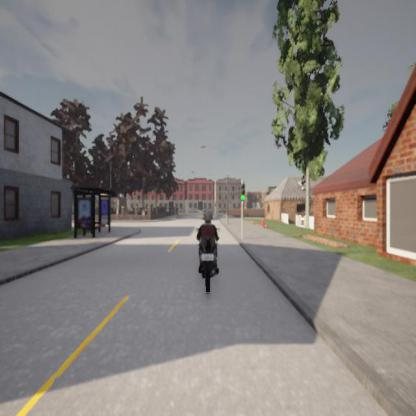motobike: (196, 209, 220, 292)
traffic_light_green: (240, 184, 246, 201)
